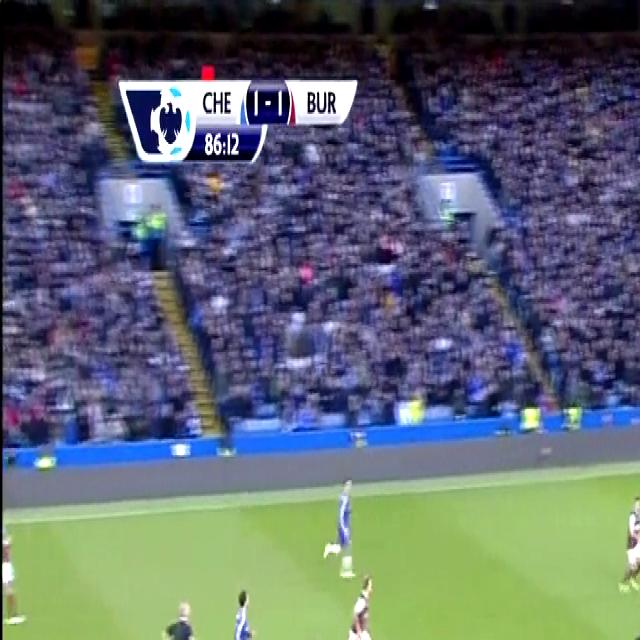referee: (146, 590, 200, 640)
soccer-player: (316, 472, 356, 584), (612, 482, 640, 604), (339, 567, 385, 640), (1, 502, 23, 632), (214, 586, 266, 640), (594, 627, 640, 640), (278, 638, 337, 640)
